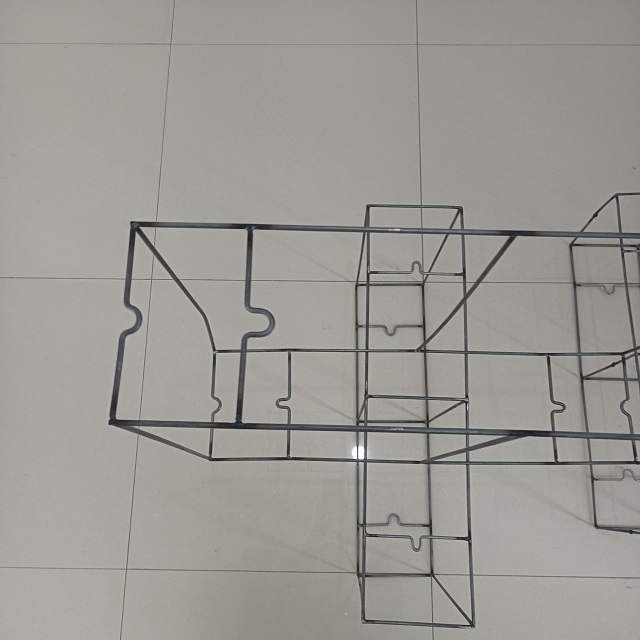curvedhole: (236, 294, 277, 357), (114, 285, 148, 346), (611, 382, 637, 428), (397, 530, 441, 556), (591, 272, 629, 298), (199, 386, 225, 422), (377, 506, 410, 532), (402, 258, 431, 286), (544, 390, 568, 423), (273, 381, 294, 418), (377, 318, 405, 340), (617, 466, 640, 486)
